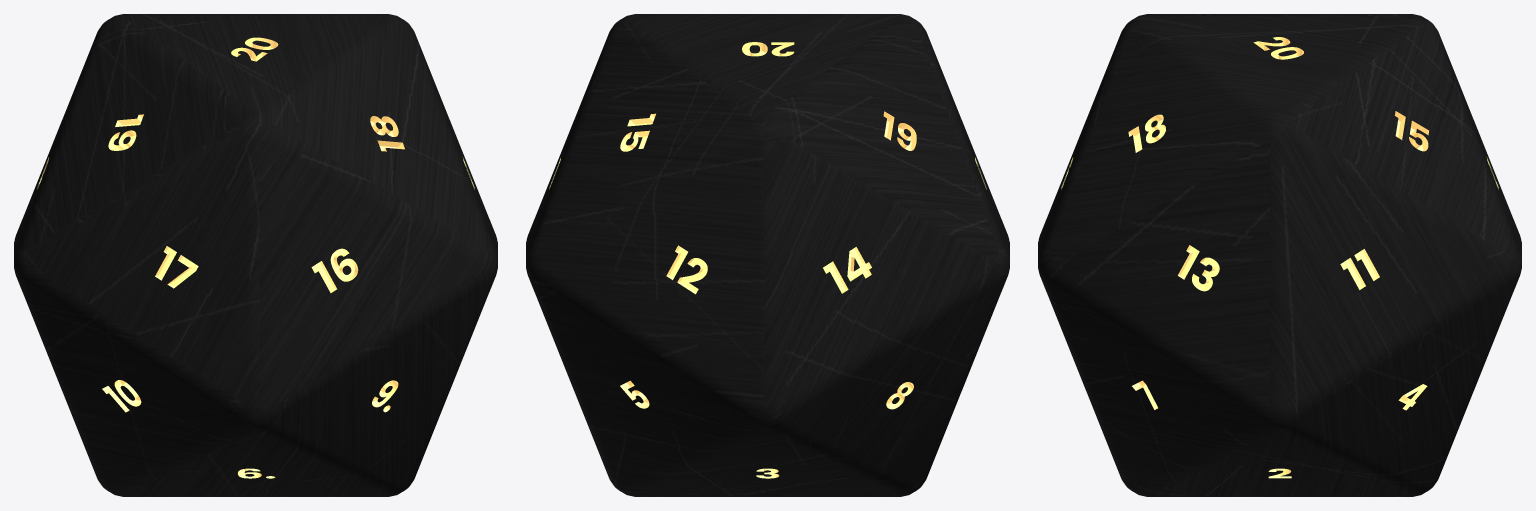
File: MP_D20_BlackGold.glb
3 renders of one model, left to right at view 1: azimuth 30°, elevation 25°; view 2: azimuth 150°, elevation 25°; view 3: azimuth 270°, elevation 25°, orthographic.
Visible parts, largest first — view 1: D20_BlackGold; view 2: D20_BlackGold; view 3: D20_BlackGold.
Boxes of the visible parts, box(x1,y1,x2,y2) form: D20_BlackGold: box(14, 14, 497, 496); D20_BlackGold: box(526, 14, 1009, 496); D20_BlackGold: box(1038, 14, 1521, 496).
Size of the model in its own units: 1 by 0.831 by 0.8811.
Materials: 2 (1 with a texture image).
